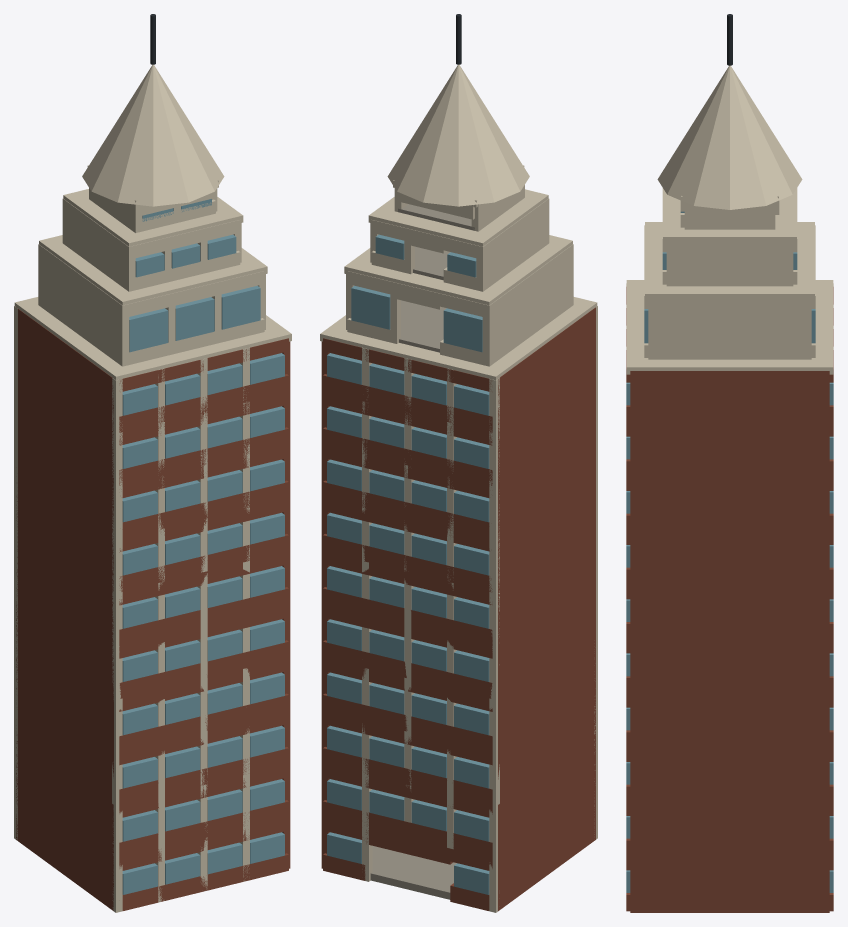
File: smiff-tower.glb
The picture shows the model from 3 angles, left to right: view 1: azimuth 30°, elevation 25°; view 2: azimuth 150°, elevation 25°; view 3: azimuth 270°, elevation 25°; orthographic projection.
Parts seen in each view (by area): view 1: smiff-tower; view 2: smiff-tower; view 3: smiff-tower.
Part boxes in pixels (<box>): smiff-tower: <box>14,14,291,912</box>; smiff-tower: <box>320,14,597,912</box>; smiff-tower: <box>626,14,833,912</box>.
Size of the model in its own units: 11.44 by 52 by 11.44.
